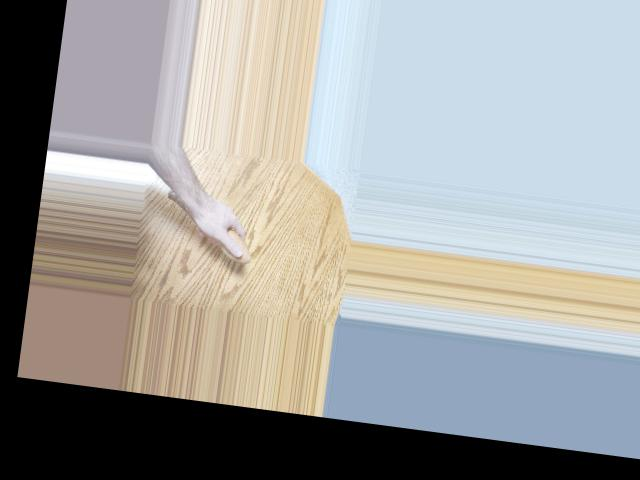sweet_potato: (157, 188, 258, 264)
